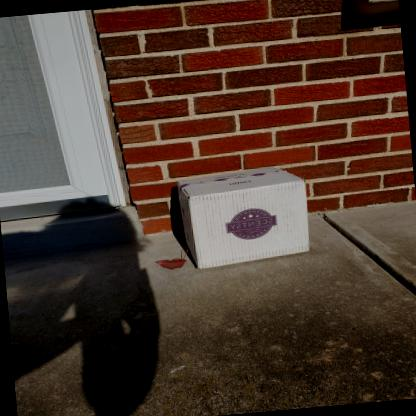box: (175, 163, 311, 272)
